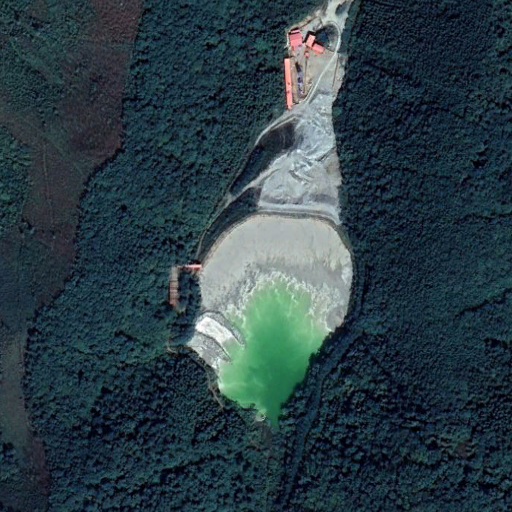tp: (189, 211, 351, 434)
